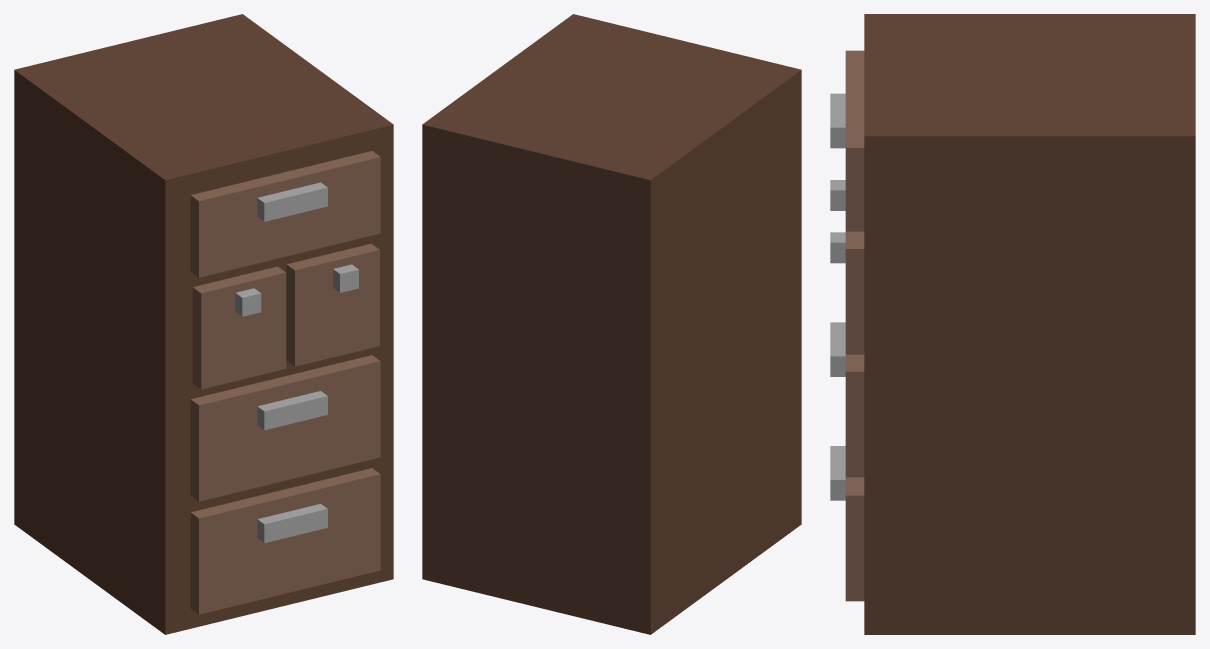
The model's file is Cabinet 03.FBX.
3 views of the same model, side by side, from view 1: azimuth 30°, elevation 25°; view 2: azimuth 150°, elevation 25°; view 3: azimuth 270°, elevation 25° (orthographic). The views are drawn at different scales.
Visible parts, largest first — view 1: Cabinet 03; view 2: Cabinet 03; view 3: Cabinet 03.
Boxes of the visible parts, left/top/right/bottom form: Cabinet 03: left=14, top=14, right=393, bottom=634; Cabinet 03: left=422, top=14, right=801, bottom=634; Cabinet 03: left=830, top=14, right=1195, bottom=634.
Size of the model in its own units: 53.66 by 102 by 67.79.
